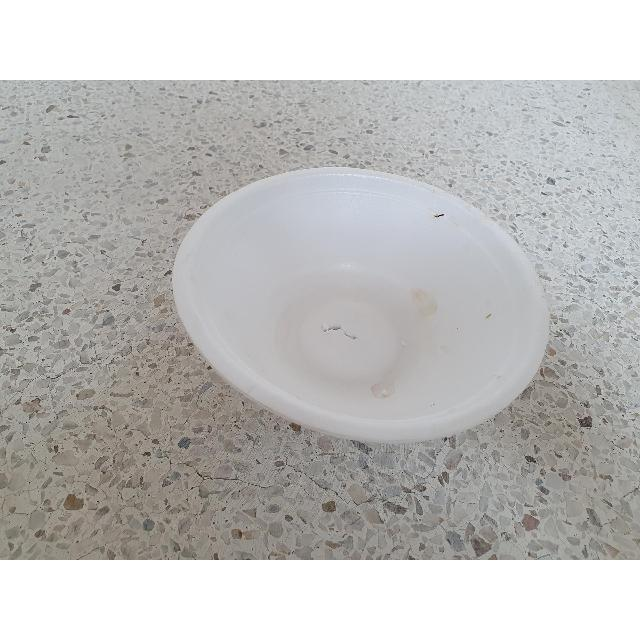Plastico descartable: (172, 167, 550, 446)
